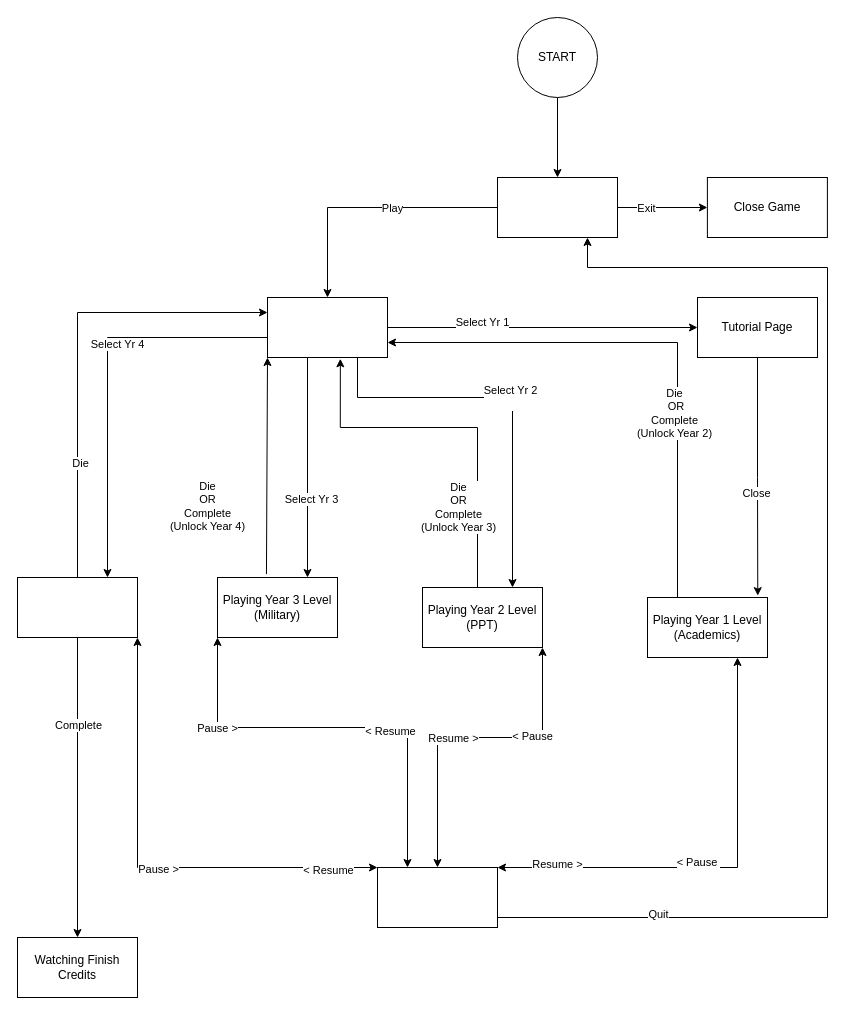
Some shapes in this 853 by 1015 pixel diagram are drawn without their labels. The shapes that lost their labels are listed below. From the top down, each one's centre as x and y in pixels, then its label:
At (557,207): "Main Menu".
At (327,327): "Level Selection".
At (77,607): "Playing Year 4 Level (Bilingualism)".
At (437,897): "Game Paused".
